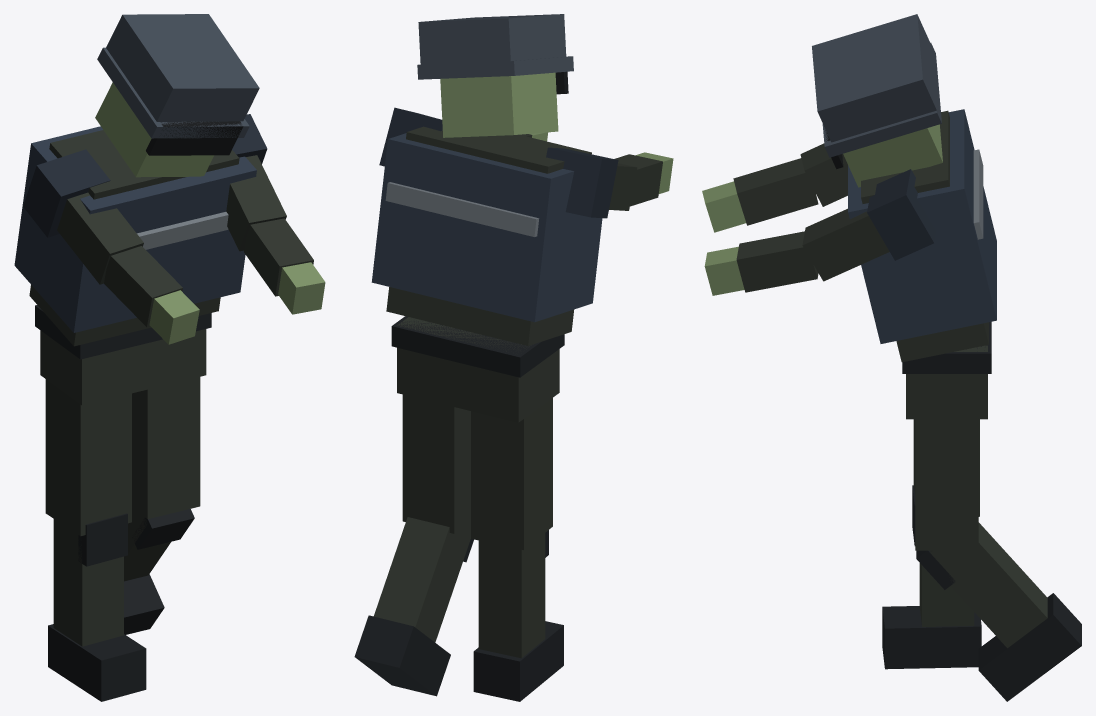
Rendered from zombie_armored_b.glb.
3 views of the same model, side by side, from view 1: azimuth 30°, elevation 25°; view 2: azimuth 150°, elevation 25°; view 3: azimuth 270°, elevation 25° (orthographic). The views are drawn at different scales.
Visible parts, largest first — view 1: zombie_armored_b; view 2: zombie_armored_b; view 3: zombie_armored_b.
Boxes of the visible parts, x1,y1,x2,y2 form: zombie_armored_b: (14,14,325,701); zombie_armored_b: (354,14,673,701); zombie_armored_b: (702,14,1081,701).
Size of the model in its own units: 0.6668 by 1.97 by 1.04.
